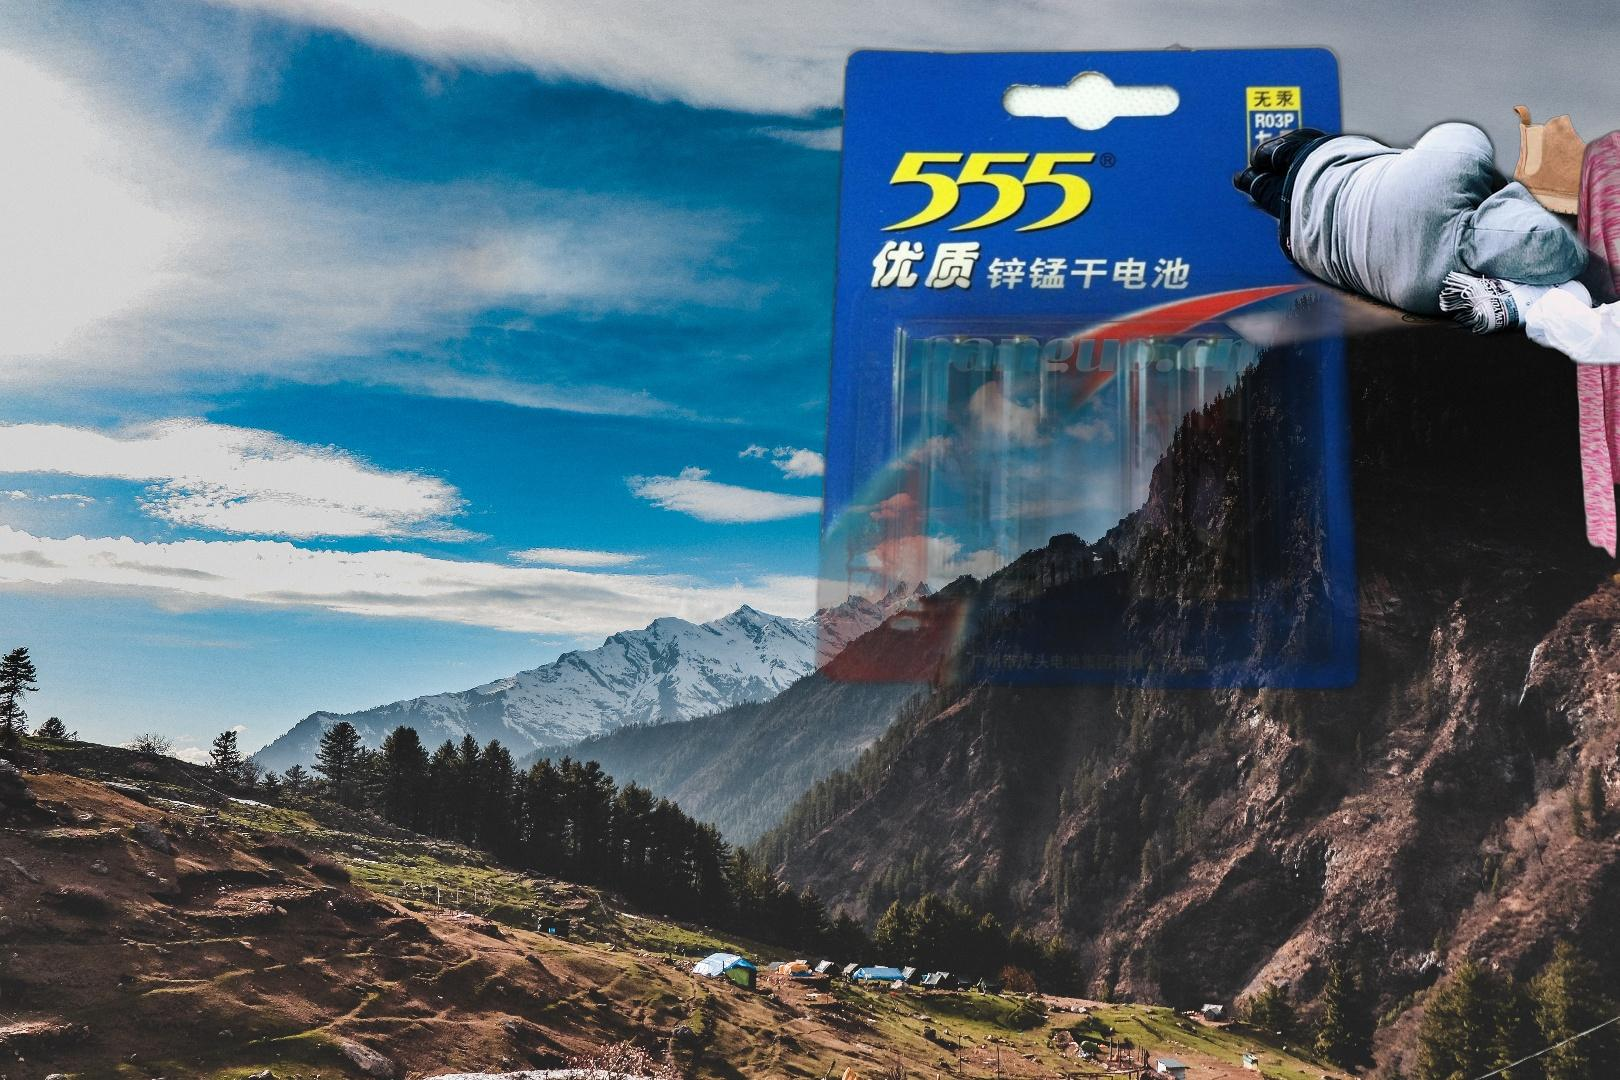battery: (792, 39, 1379, 756)
clothes: (1571, 65, 1620, 564)
metal-cans: (1138, 39, 1249, 168)
shoes: (1505, 102, 1620, 219)
trashbox-cardboard: (1166, 108, 1620, 377)
